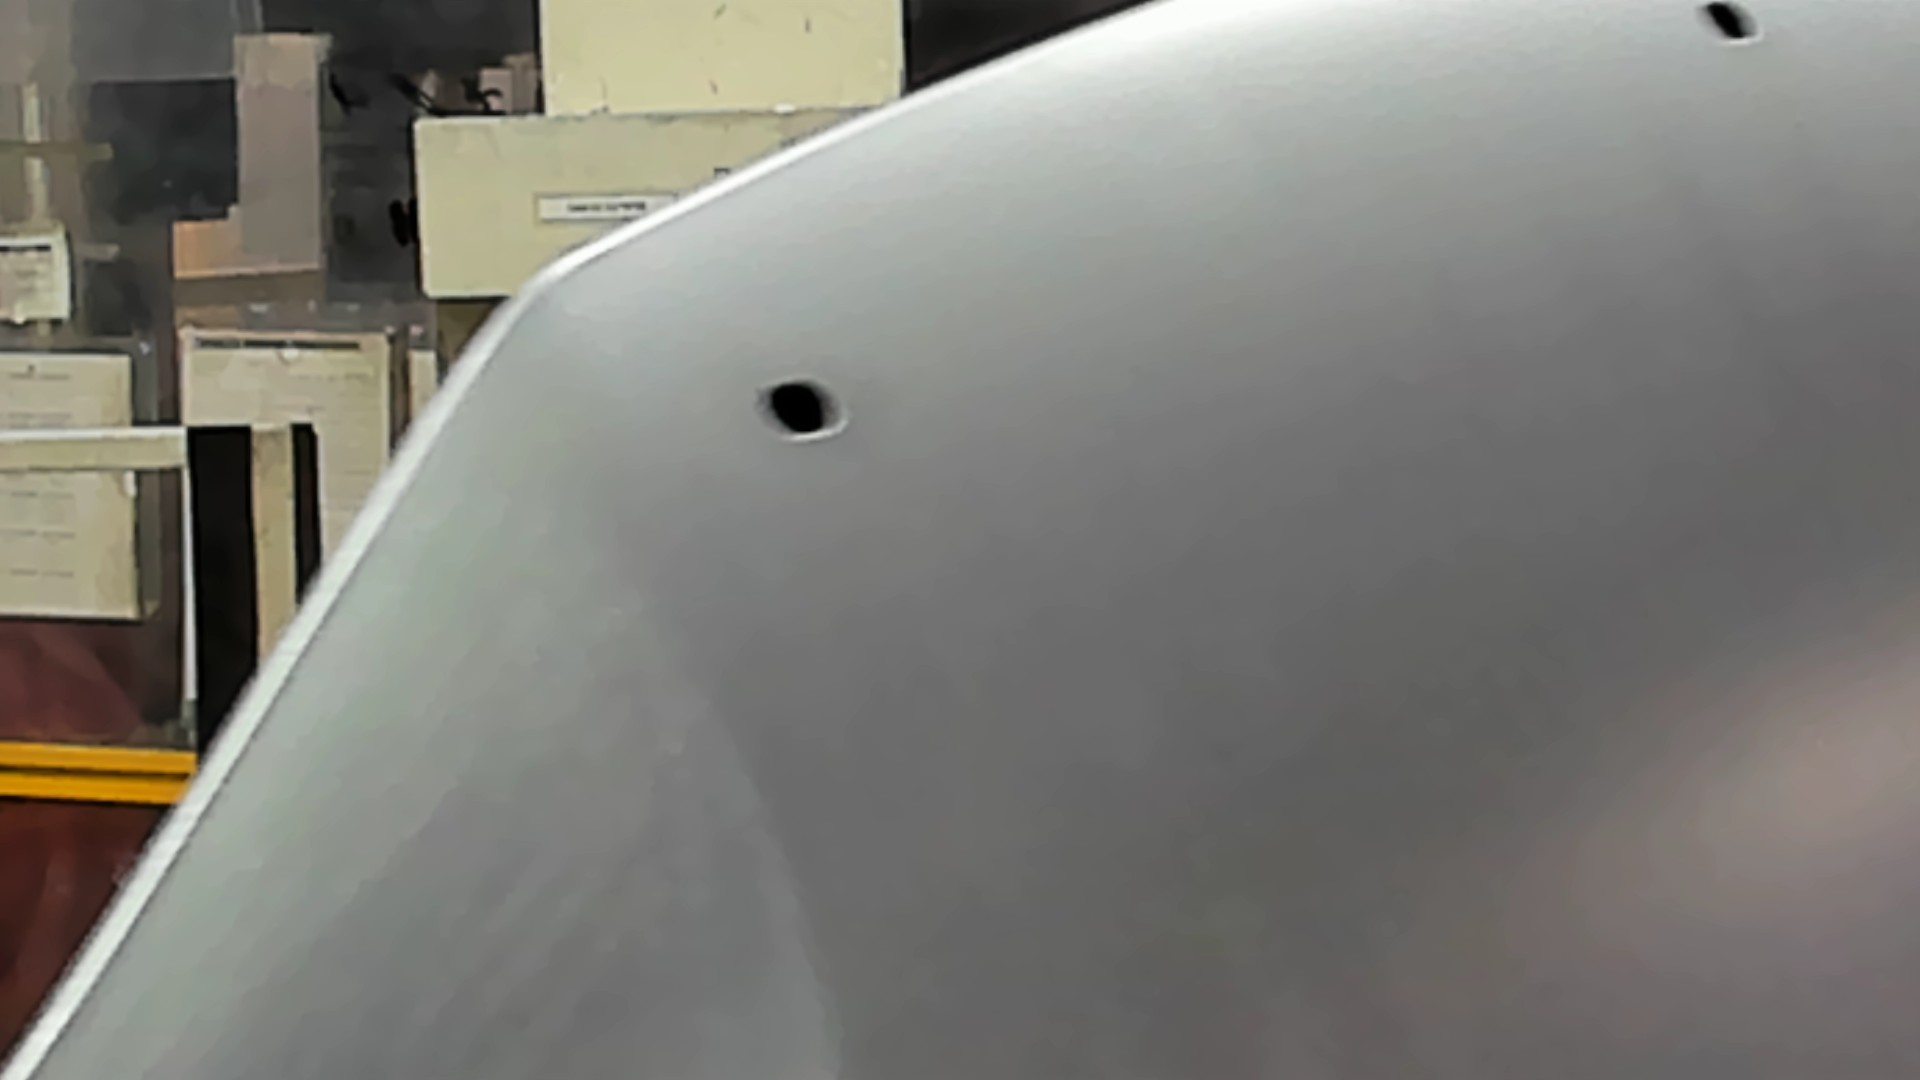amorfo: (752, 372, 855, 440), (1695, 1, 1764, 55)
